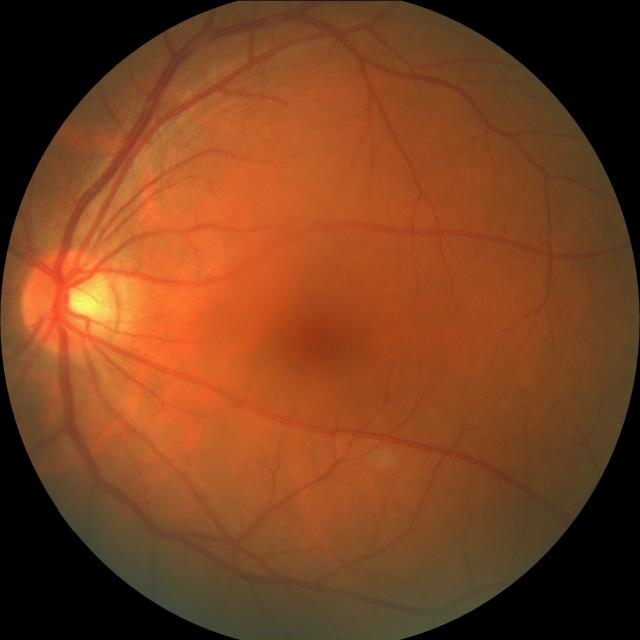OC: (39, 268, 102, 332)
OD: (24, 246, 118, 358)
